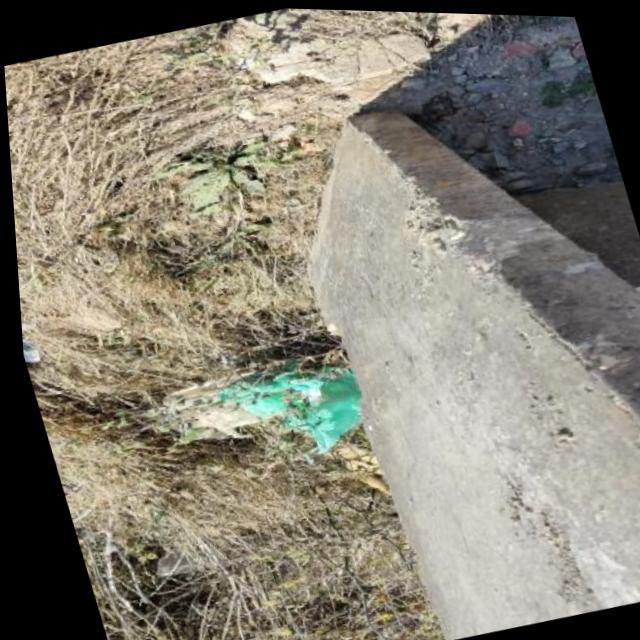plastic: (210, 351, 378, 475), (155, 363, 298, 455)
